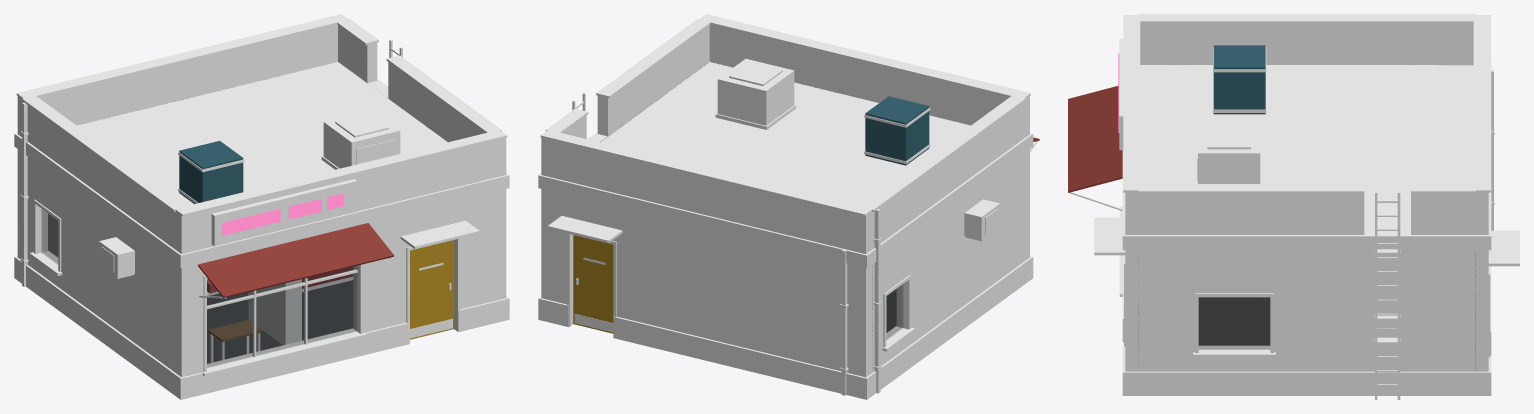
Rendered from house_shop.glb.
3 renders of one model, left to right at view 1: azimuth 30°, elevation 25°; view 2: azimuth 150°, elevation 25°; view 3: azimuth 270°, elevation 25°, orthographic. The views are drawn at different scales.
Visible parts, largest first — view 1: shop_concrete, shop_concrete_dark, shop_gunmetal, shop_pane, shop_cloth, shop_dark, shop_floor, door_0_door_yellow, shop_paint_teal, shop_titan, shop_win_pink, shop_wood (+2 smaller); view 2: shop_concrete, shop_concrete_dark, shop_gunmetal, shop_titan, shop_paint_teal, door_1_door_yellow, shop_dark, shop_pane, shop_plaster, door_1_gunmetal; view 3: shop_concrete, shop_concrete_dark, shop_gunmetal, shop_cloth, shop_pane, shop_floor, shop_paint_teal, shop_titan, shop_dark.
Part boxes in pixels (x1,y1,x2,y2): shop_concrete: (17,24,506,377); shop_concrete_dark: (14,62,509,399); shop_gunmetal: (16,14,507,376); shop_pane: (41,209,356,367); shop_cloth: (198,223,393,298); shop_dark: (20,113,395,292); shop_floor: (207,280,353,363); door_0_door_yellow: (410,240,454,339); shop_paint_teal: (179,141,243,203); shop_titan: (99,110,400,277); shop_win_pink: (222,193,344,235); shop_wood: (208,320,262,341); shop_concrete: (541,24,1029,377); shop_concrete_dark: (538,62,1033,399); shop_gunmetal: (540,14,1037,395); shop_titan: (717,58,1000,240); shop_paint_teal: (865,96,929,165); door_1_door_yellow: (573,235,613,333); shop_dark: (729,62,997,371); shop_pane: (886,285,902,339); shop_plaster: (600,62,896,368); door_1_gunmetal: (574,257,613,332); shop_concrete: (1125,23,1488,371); shop_concrete_dark: (1122,58,1491,395); shop_gunmetal: (1068,14,1519,399); shop_cloth: (1068,86,1122,192); shop_pane: (1199,297,1269,349); shop_floor: (1198,297,1270,345); shop_paint_teal: (1213,45,1265,114); shop_titan: (1198,127,1260,183); shop_dark: (1119,39,1494,204).
Bounding box in the file's own units: 8.66 × 4.42 × 8.71.
